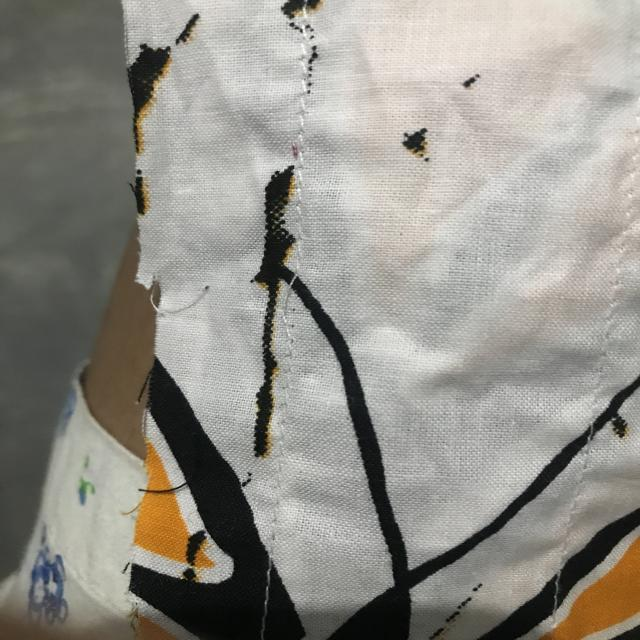skip: (273, 252, 318, 356)
